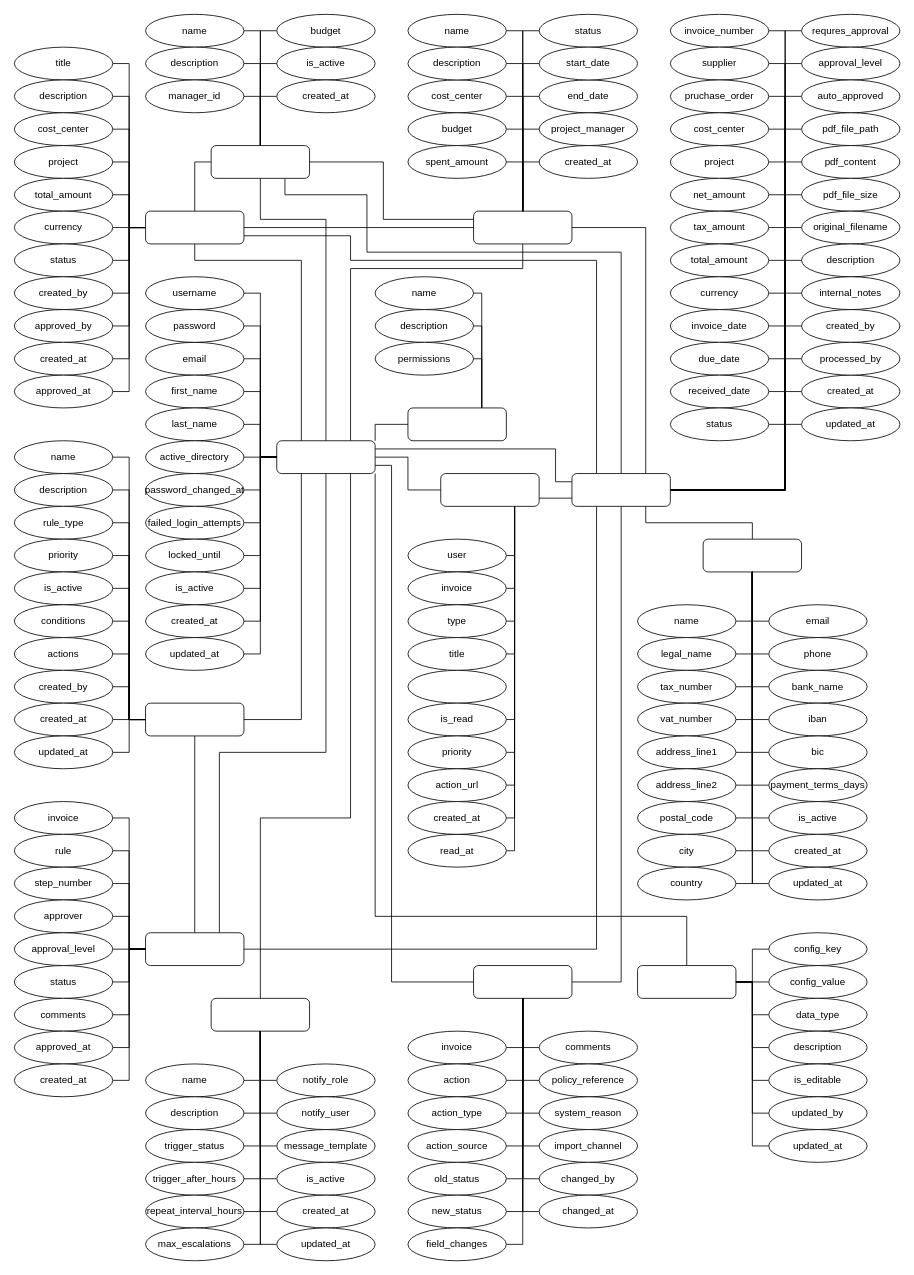
Some shapes in this 914 by 1275 pixel diagram are drawn without their labels. The box of each missing label's shape, as (x1, y1, x2, y2) in pixels:
approval_rules: (145, 702, 244, 736)
approval_workflows: (145, 932, 244, 966)
cost_centers: (210, 145, 310, 178)
escalation_rules: (210, 998, 310, 1031)
invoice_history: (473, 965, 572, 998)
invoices: (571, 473, 670, 506)
message: (407, 670, 506, 703)
notifications: (440, 473, 539, 506)
projects: (473, 210, 572, 244)
purchase_orders: (145, 210, 244, 244)
roles: (407, 407, 506, 441)
suppliers: (702, 538, 802, 572)
system_config: (637, 965, 736, 998)
users: (276, 440, 375, 474)
